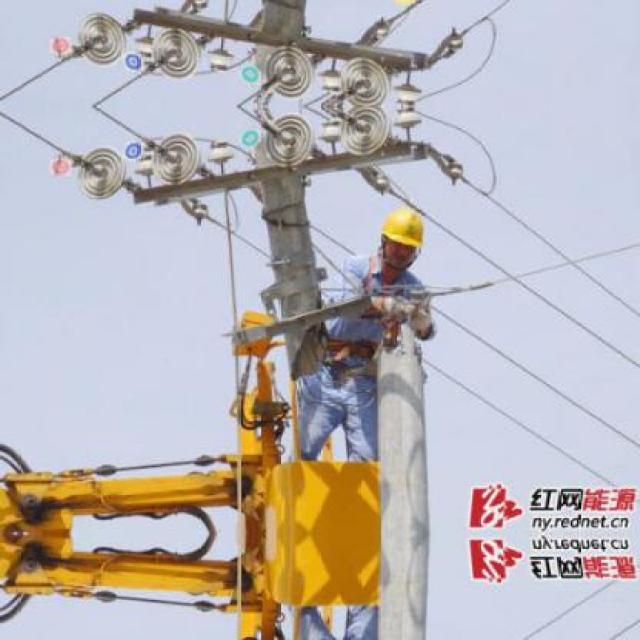helmet: (372, 197, 428, 280), (371, 0, 429, 17)
